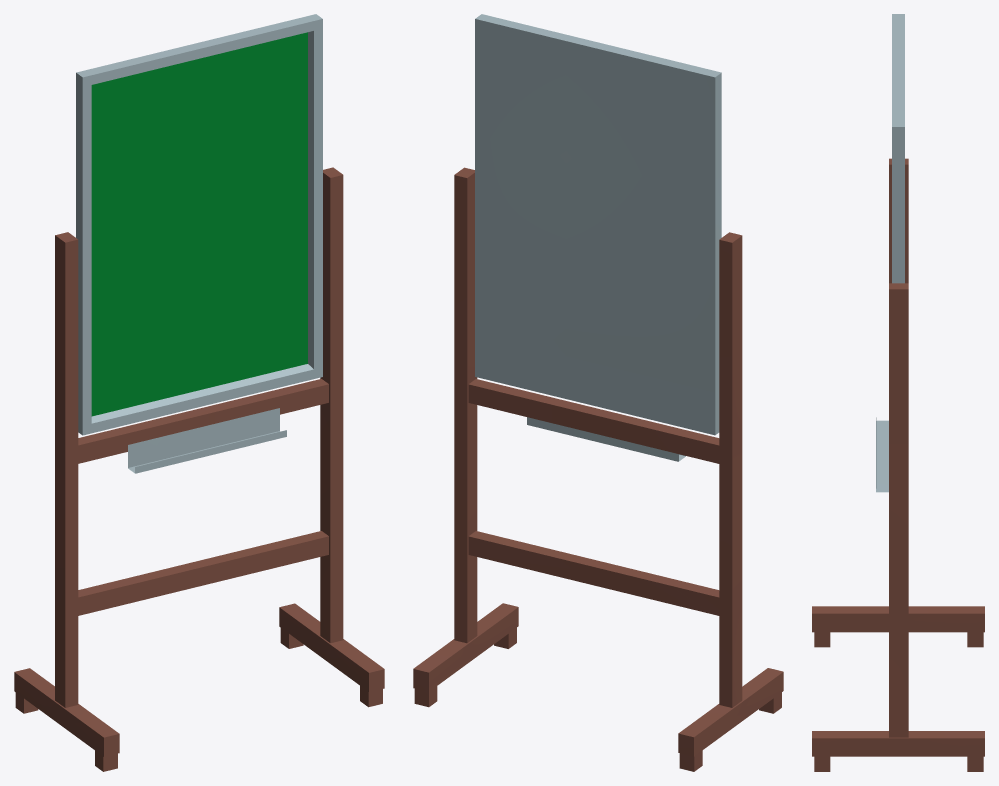
File: toy_002.obj
3 renders of one model, left to right at view 1: azimuth 30°, elevation 25°; view 2: azimuth 150°, elevation 25°; view 3: azimuth 270°, elevation 25°, orthographic. The views are drawn at different scales.
Visible parts, largest first — view 1: toy_002; view 2: toy_002; view 3: toy_002.
Boxes of the visible parts, bbox=[...] form: toy_002: bbox=[14, 14, 384, 771]; toy_002: bbox=[413, 14, 783, 771]; toy_002: bbox=[812, 14, 984, 771].
Bounding box in the file's own units: 0.8008 × 1.8 × 0.4433.
